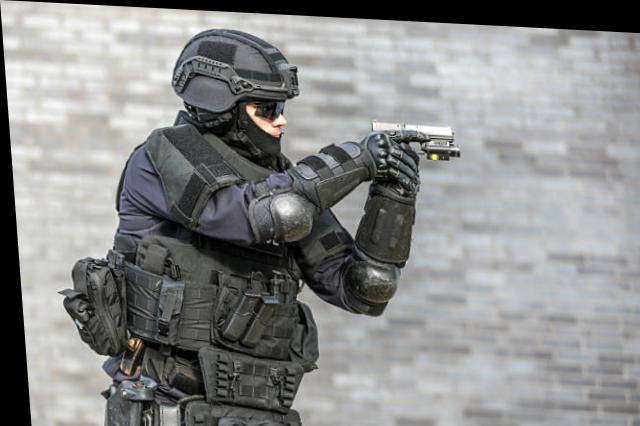other: (98, 29, 341, 424)
